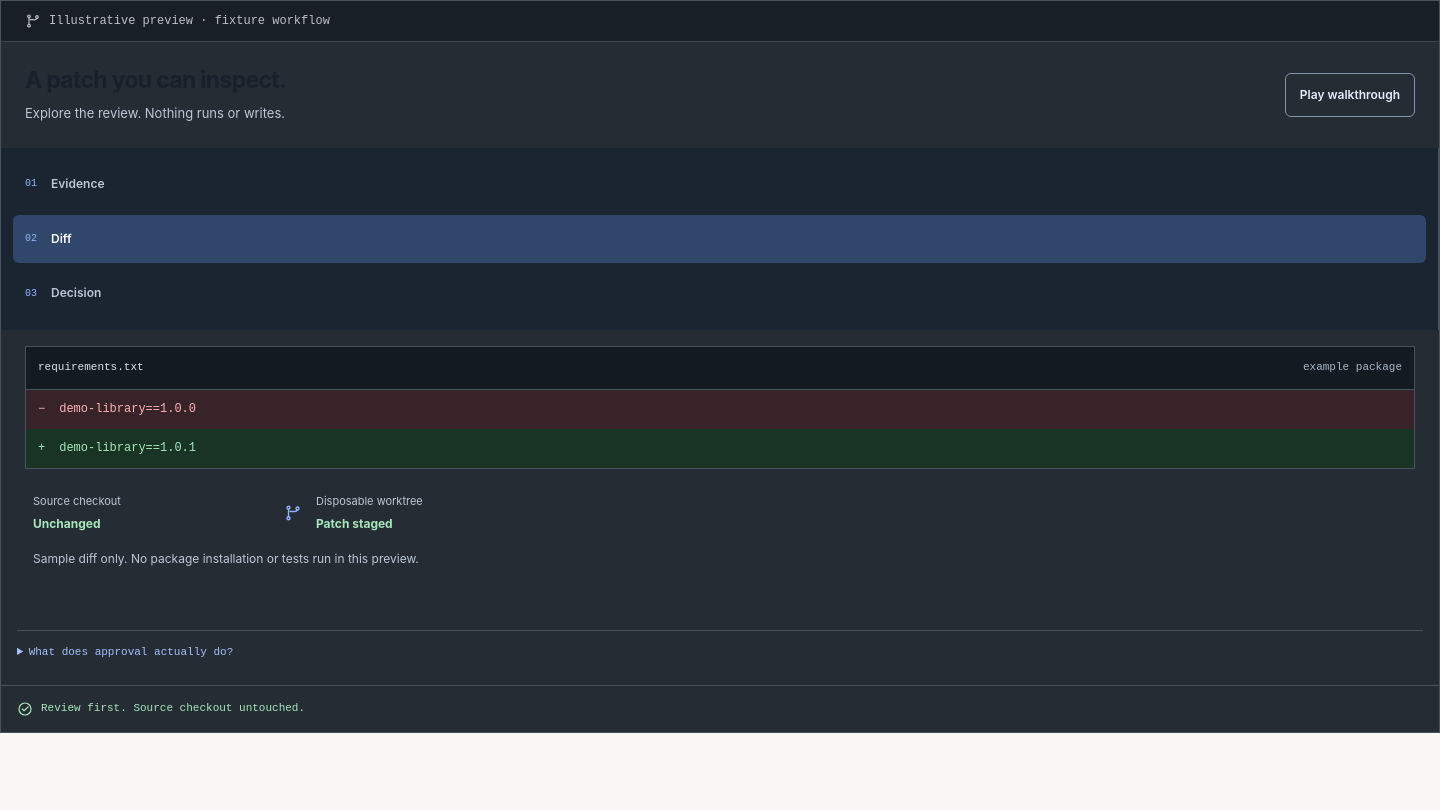
Test case: Interactive dependency preview › keeps example decisions reversible and clearly unsaved
This screenshot has width=1440, height=810.
Step 1. Click the button "03 Decision" → (76, 293), box [13,269,1426,318]
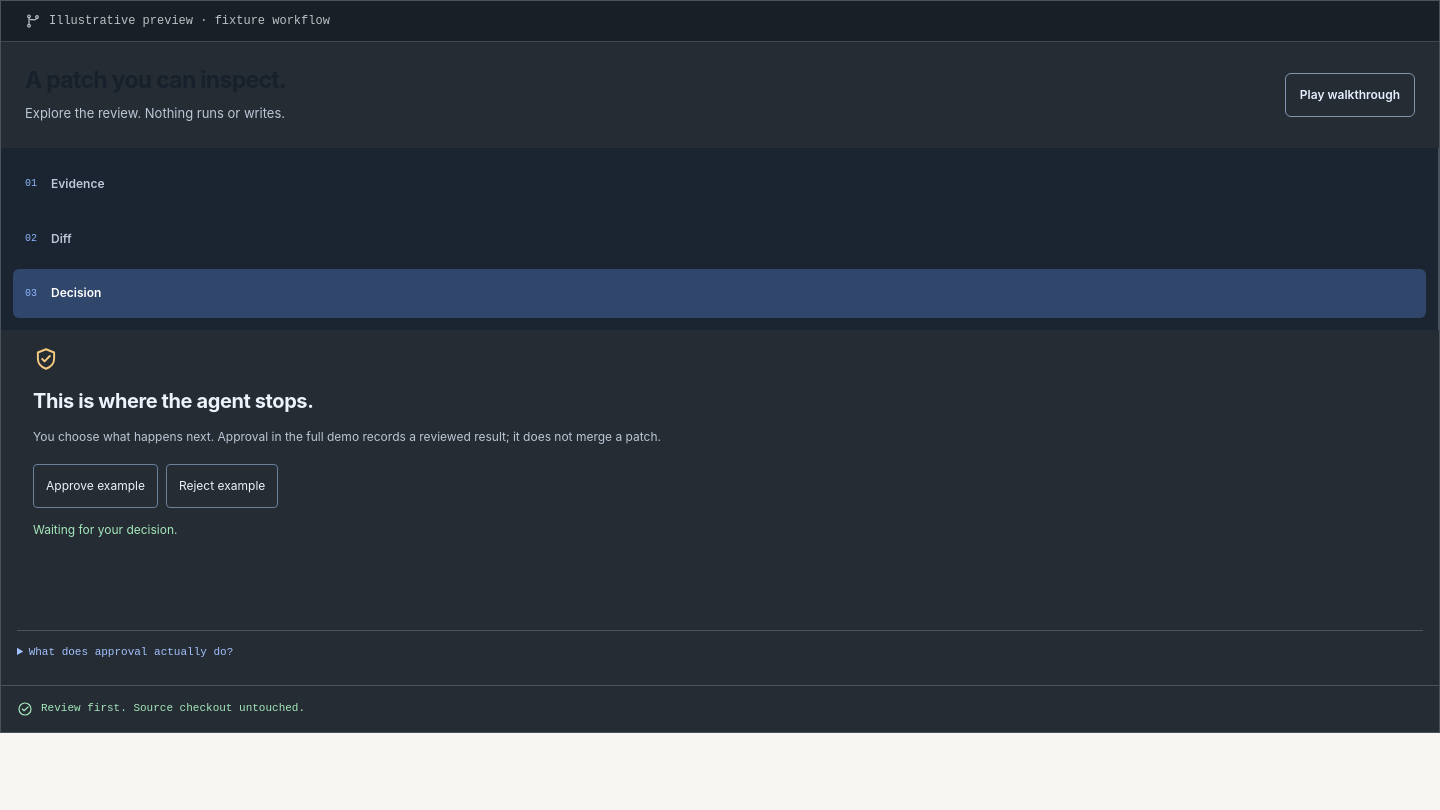
Step 2. Click the button "Approve example" → (95, 486), box [33,464,158,508]
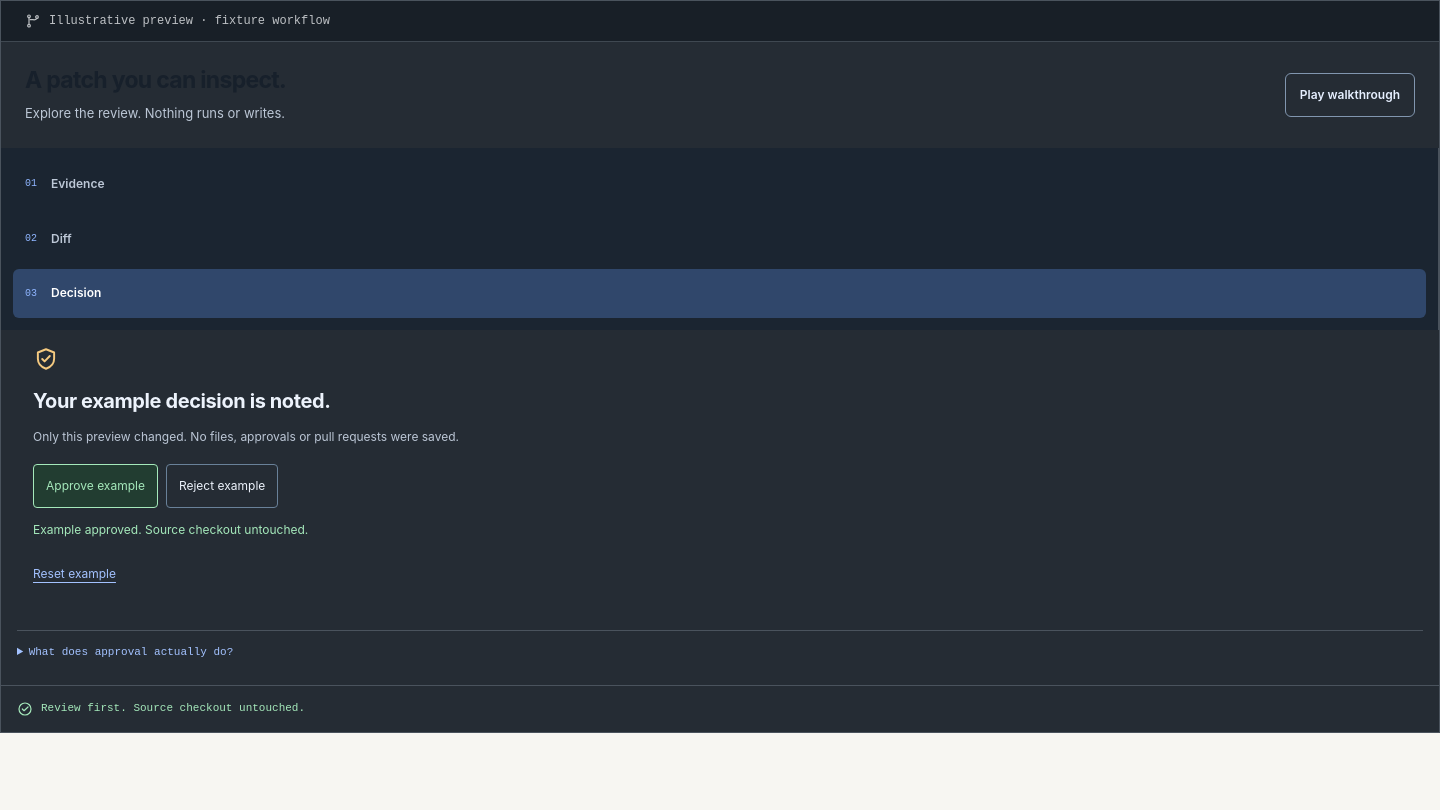
Expected: the message shows "Example approved", [33,522,308,537]
Expected: the text "No files, approvals or pull requests were saved" is shown, [33,429,459,444]
Step 3. Click the button "Reject example" → (222, 486), box [166,464,278,508]
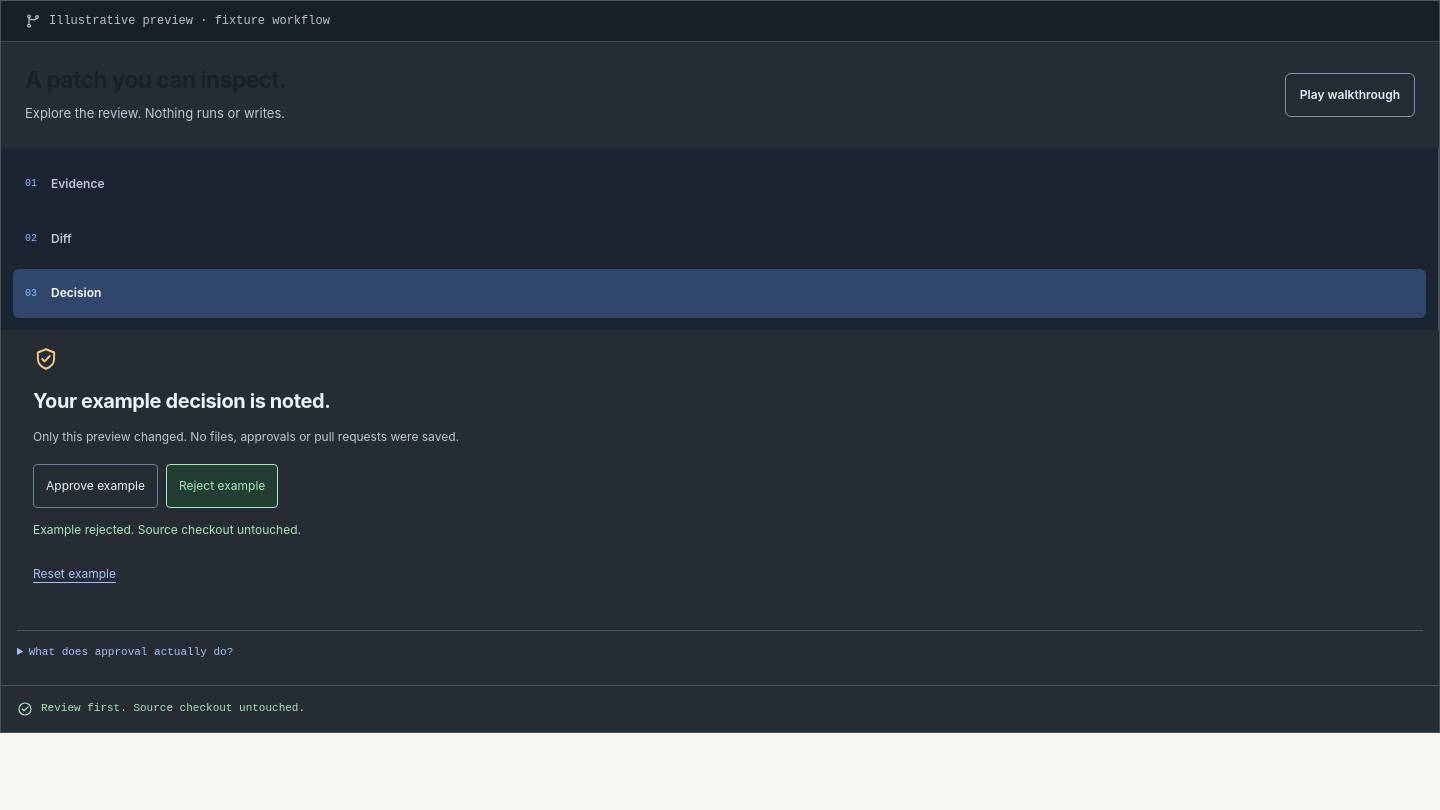
Expected: the message shows "Example rejected", [33,522,301,537]
Step 4. Click the button "Reset example" → (74, 574), box [33,552,116,596]
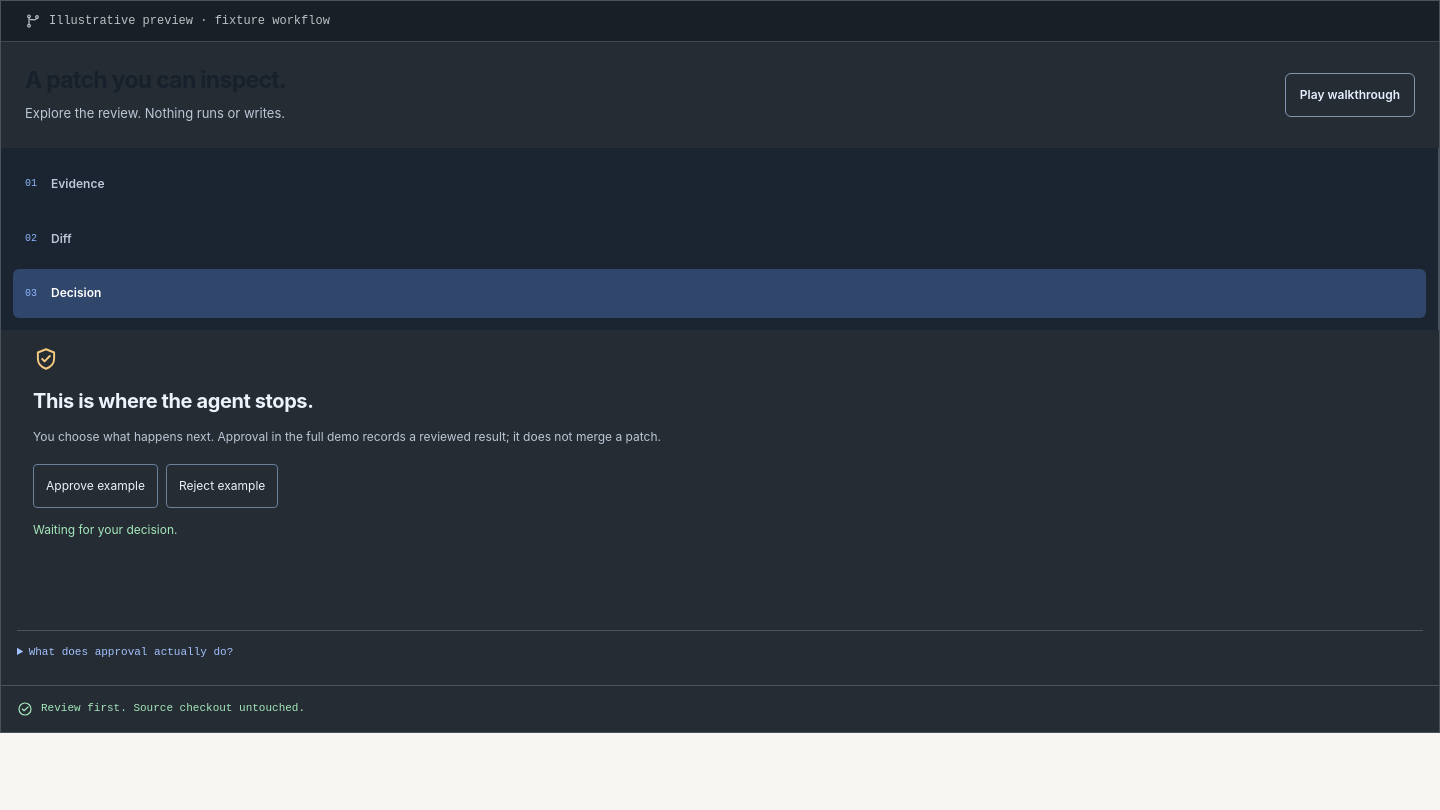
Expected: the message shows "Waiting for your decision", [33,522,178,537]
